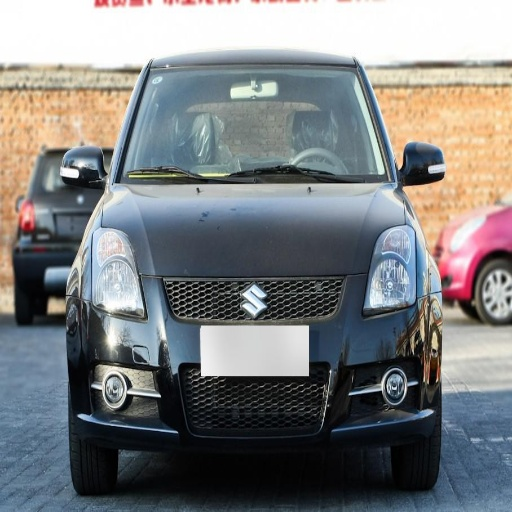front_bumper: (67, 274, 437, 444)
front_right_light: (80, 229, 146, 321)
hood: (103, 183, 407, 277)
left_mirror: (399, 143, 446, 186)
